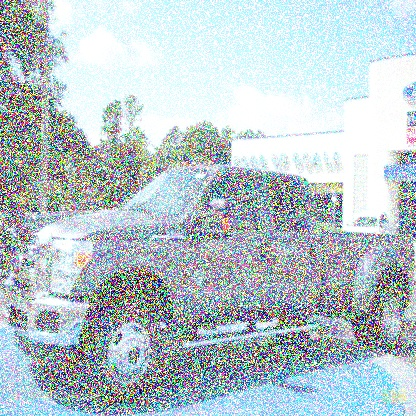Vehicle: (3, 162, 413, 405)
